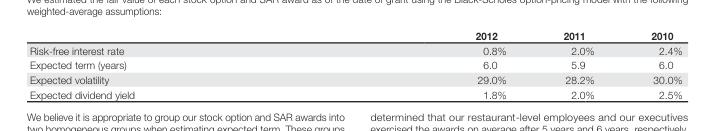table: (28, 28, 681, 99)
table column: (28, 28, 304, 99), (304, 28, 534, 99), (534, 28, 622, 99), (622, 28, 681, 99)
table column header: (28, 28, 681, 42)
table row: (28, 42, 681, 57), (28, 71, 681, 86), (28, 28, 681, 42), (28, 57, 681, 71), (28, 86, 681, 99)
